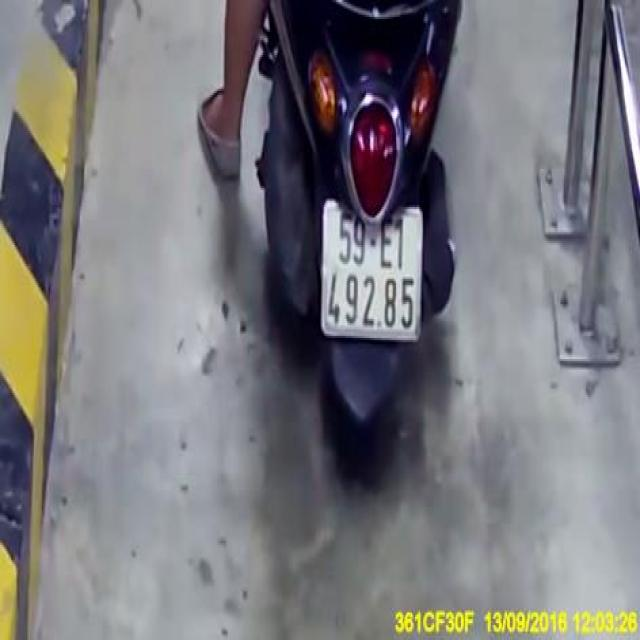1: (394, 218, 408, 272)
2: (361, 272, 377, 330)
4: (328, 268, 342, 323)
5: (399, 274, 415, 332), (337, 208, 352, 269)
8: (383, 274, 397, 328)
9: (343, 272, 359, 330), (352, 211, 367, 267)
E: (378, 216, 394, 271)
